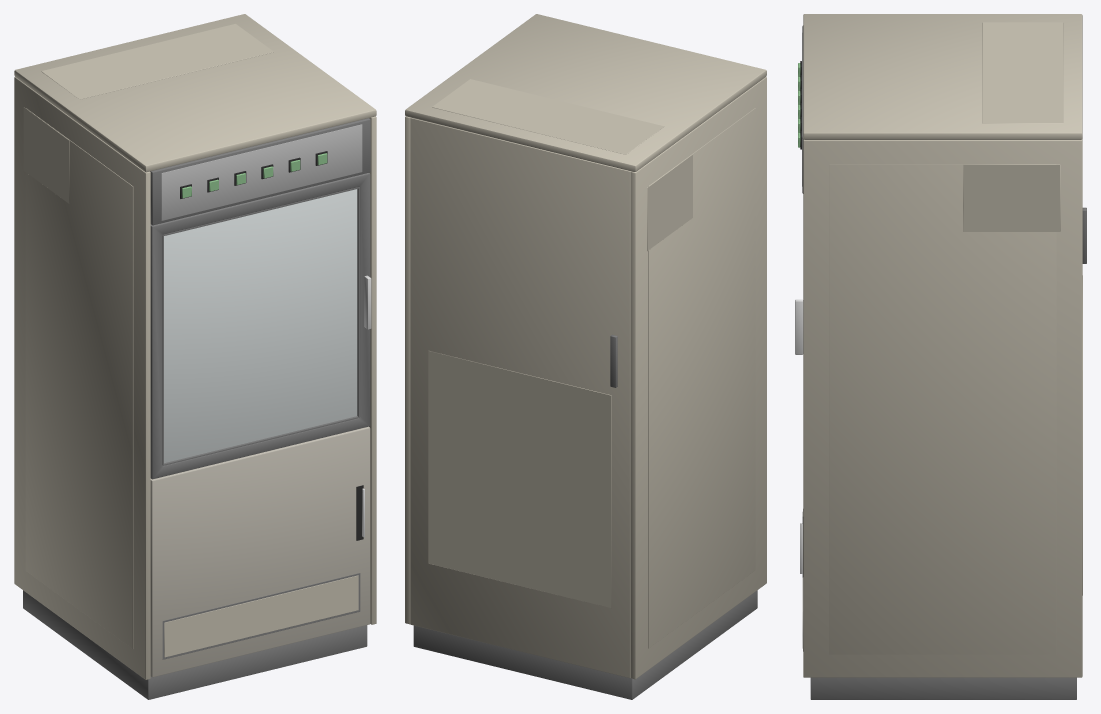
The model's file is Kit_TapeDrive_Reel_Static.fbx.
3 renders of one model, left to right at view 1: azimuth 30°, elevation 25°; view 2: azimuth 150°, elevation 25°; view 3: azimuth 270°, elevation 25°, orthographic. The views are drawn at different scales.
Parts seen in each view (by area): view 1: Kit_TapeDrive_Reel_Static_LOD0; view 2: Kit_TapeDrive_Reel_Static_LOD0; view 3: Kit_TapeDrive_Reel_Static_LOD0.
Boxes of the visible parts, x1,y1,x2,y2 form: Kit_TapeDrive_Reel_Static_LOD0: (14, 14, 376, 699); Kit_TapeDrive_Reel_Static_LOD0: (405, 14, 766, 699); Kit_TapeDrive_Reel_Static_LOD0: (795, 14, 1086, 699).
Size of what is drawn, in the model's own units: 0.7671 by 1.69 by 0.784.
